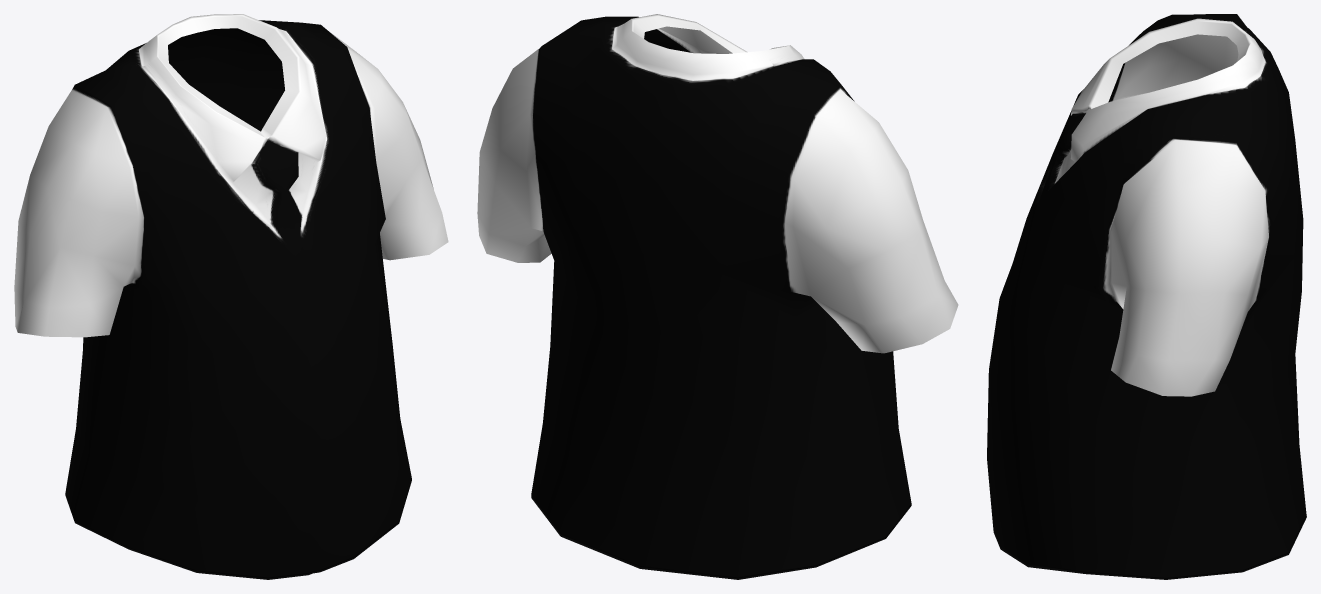
The model's file is AF_M_Jacket_16.fbx.
3 renders of one model, left to right at view 1: azimuth 30°, elevation 25°; view 2: azimuth 150°, elevation 25°; view 3: azimuth 270°, elevation 25°, orthographic. The views are drawn at different scales.
Parts seen in each view (by area): view 1: AF_M_Jacket_16; view 2: AF_M_Jacket_16; view 3: AF_M_Jacket_16.
Boxes of the visible parts, x1=… form: AF_M_Jacket_16: x1=14, y1=14, x2=448, y2=579; AF_M_Jacket_16: x1=477, y1=14, x2=958, y2=579; AF_M_Jacket_16: x1=987, y1=14, x2=1306, y2=579.
Bounding box in the file's own units: 474 × 497 × 295.
